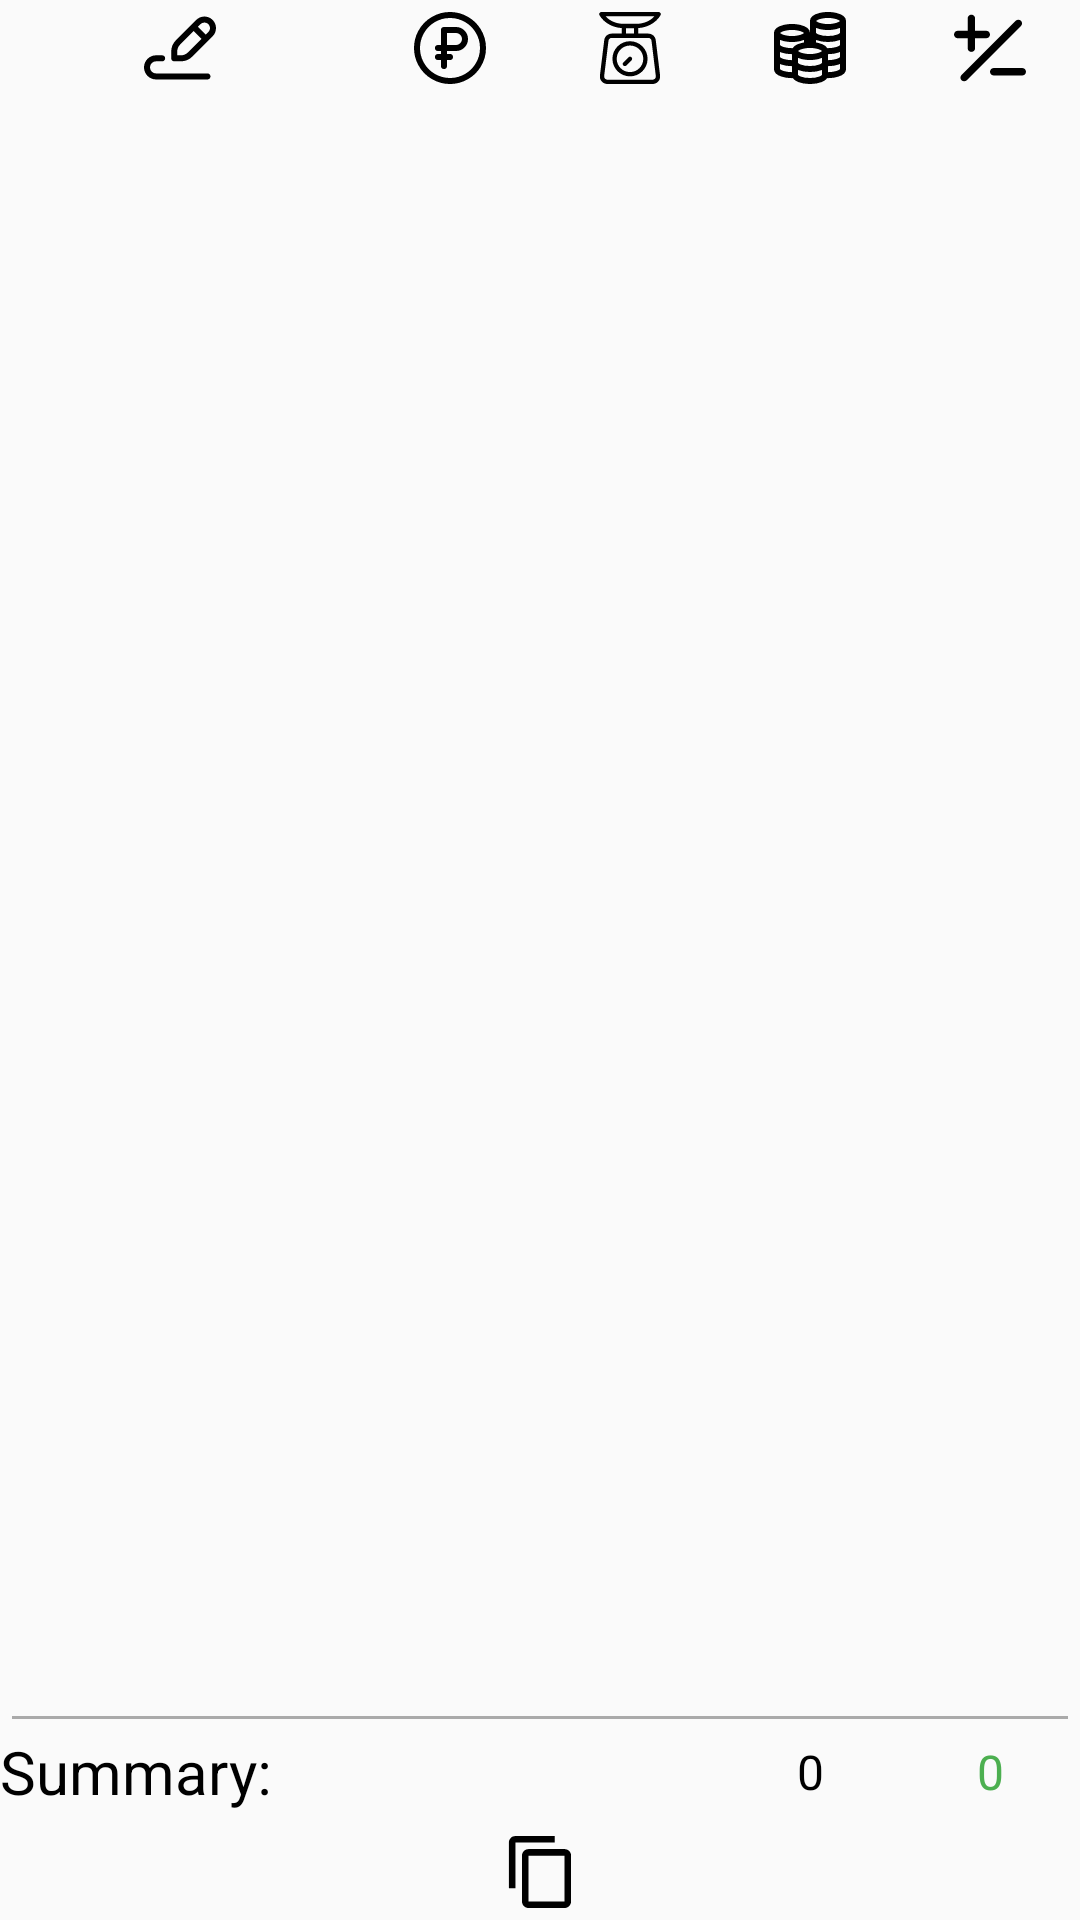

Where icons sit on this 1080*1920 app screen, as {"left": x1, "top": y1, "right": x2, "bottom": y2}:
copy: {"left": 509, "top": 1836, "right": 571, "bottom": 1908}
cost: {"left": 774, "top": 12, "right": 846, "bottom": 84}
discrepancy: {"left": 954, "top": 14, "right": 1026, "bottom": 82}
name: {"left": 144, "top": 16, "right": 216, "bottom": 80}
price: {"left": 414, "top": 12, "right": 486, "bottom": 84}
weight/amount: {"left": 599, "top": 12, "right": 661, "bottom": 84}
